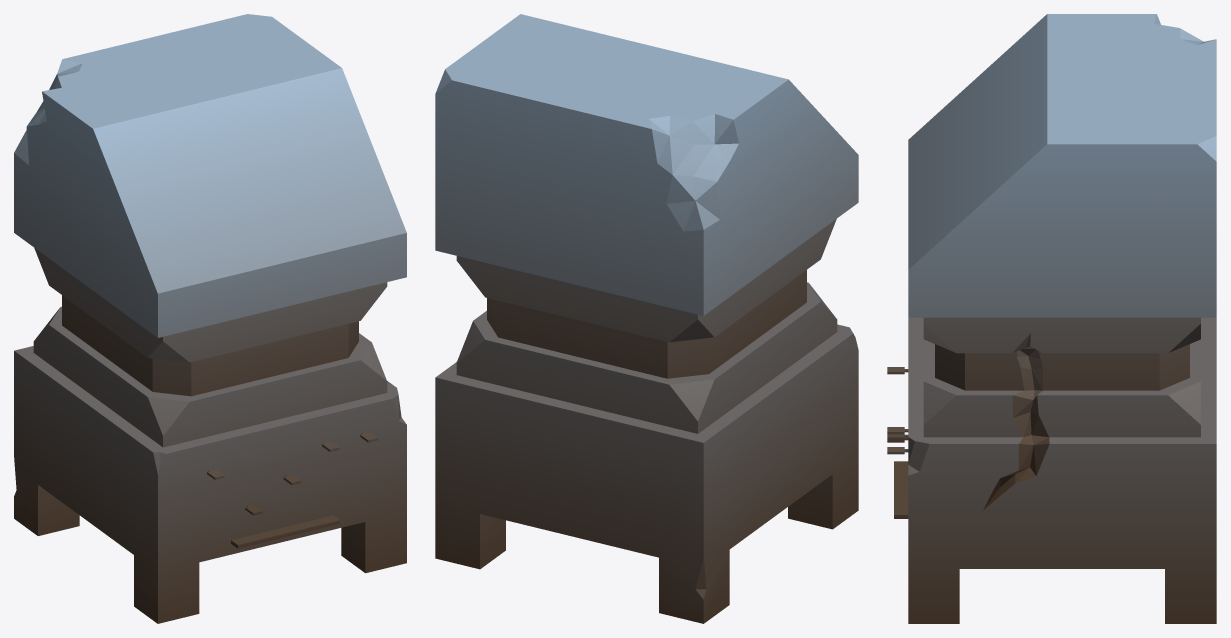
3 views of the same model, side by side, from view 1: azimuth 30°, elevation 25°; view 2: azimuth 150°, elevation 25°; view 3: azimuth 270°, elevation 25° (orthographic). The views are drawn at different scales.
Parts seen in each view (by area): view 1: Cube.137; view 2: Cube.137; view 3: Cube.137.
Boxes of the visible parts, x1,y1,x2,y2 form: Cube.137: [14, 14, 406, 623]; Cube.137: [435, 14, 858, 623]; Cube.137: [887, 14, 1216, 623].
Size of the model in its own units: 33.41 by 57.39 by 35.67.
